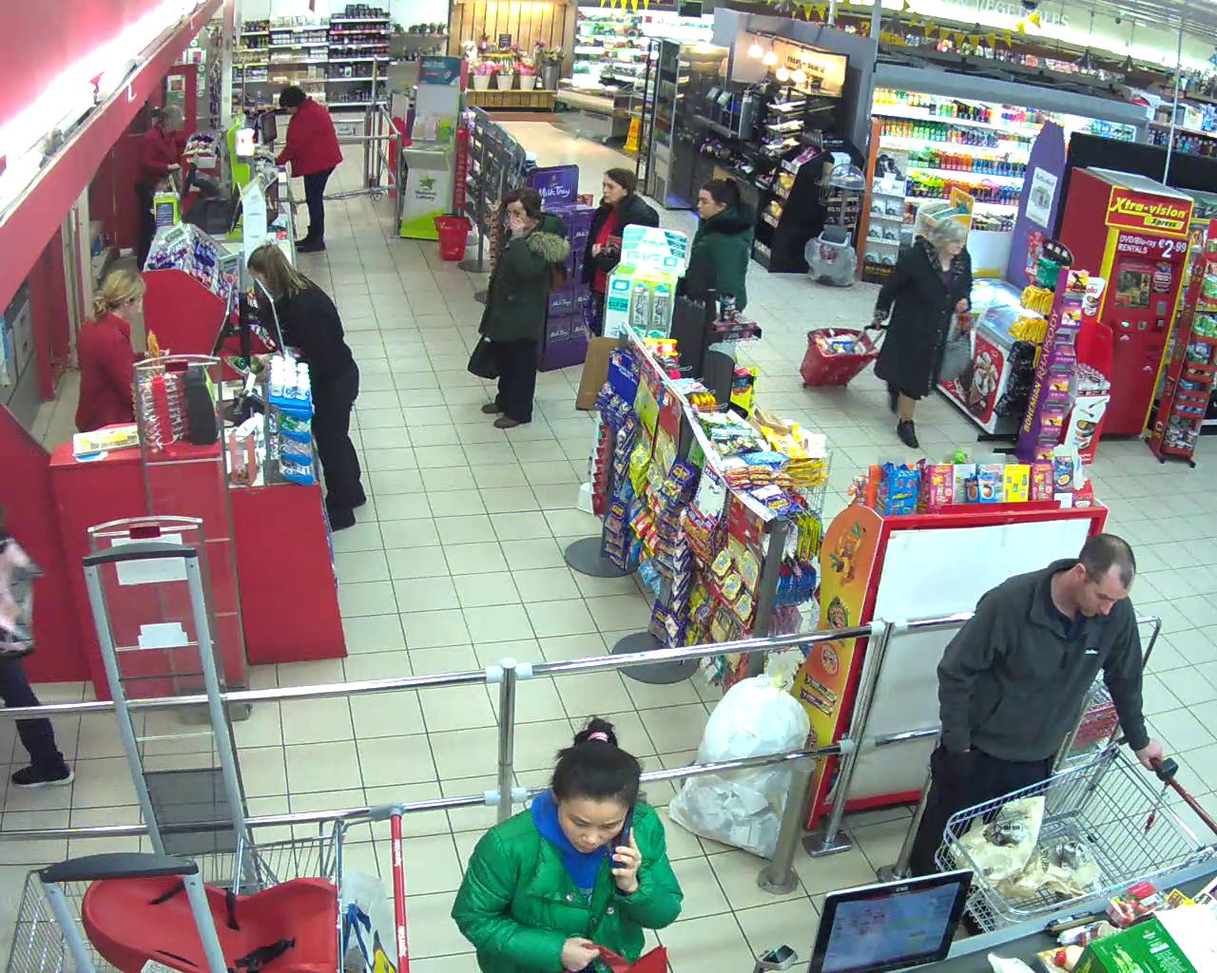backpack-or-handbag: (938, 326, 971, 383), (546, 253, 569, 290)
filled-basket: (800, 321, 879, 388)
filled-shopping-bags: (465, 327, 504, 379)
filled-trolly: (937, 735, 1217, 929)
occupied-checkout-counter: (79, 264, 297, 430), (139, 98, 290, 179)
person: (911, 531, 1165, 875), (871, 217, 973, 446), (479, 190, 571, 429)
person-with-backpack-handbag-and-shopping-bag-s-: (465, 189, 570, 428)
person-with-basket-trolly-and-backpack-handbag: (799, 217, 972, 446)
person-with-filled-basket-trolly: (911, 530, 1217, 928)
vacant-checkout-counter: (113, 170, 298, 265)
